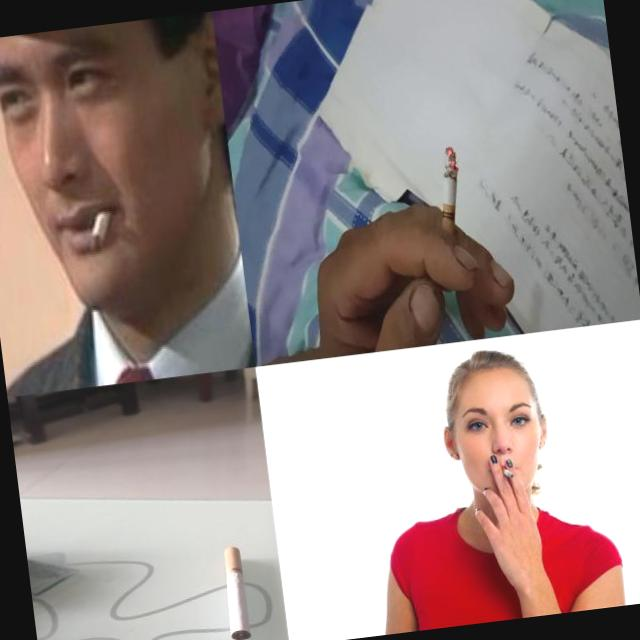smoke: (430, 144, 468, 255), (216, 545, 252, 640), (77, 202, 122, 255), (500, 466, 514, 480)
